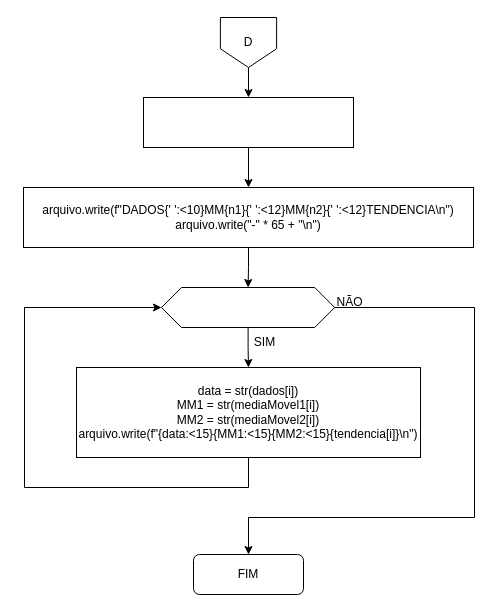
Some shapes in this 500 by 612 pixel diagram are drawn without their labels. Each missing label, with the box of its shape:
i = 0; i < dados; i++: (160, 286, 335, 328)
with open("saida.txt", "w") as arquivo: (142, 96, 354, 148)
